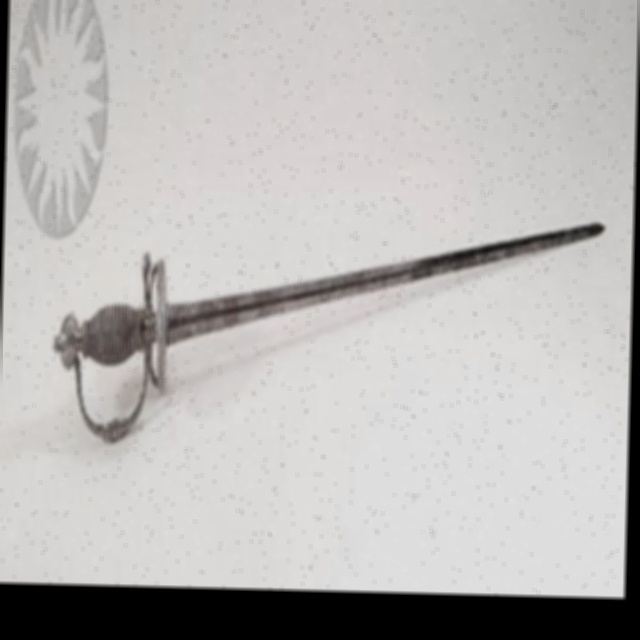Sharp-Object: (112, 201, 611, 404)
